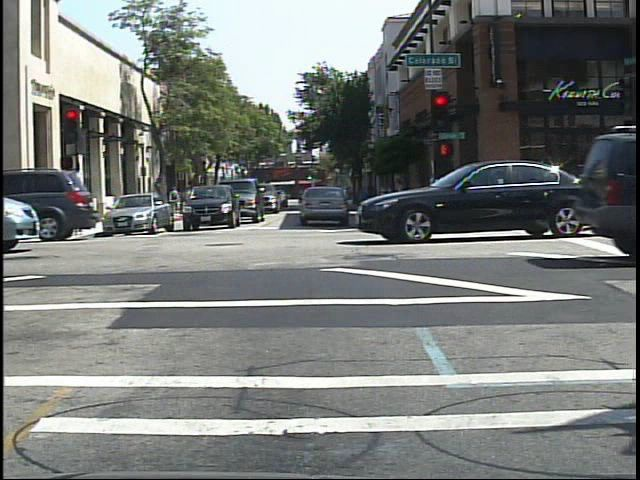person: (612, 155, 637, 220), (166, 181, 185, 221)
